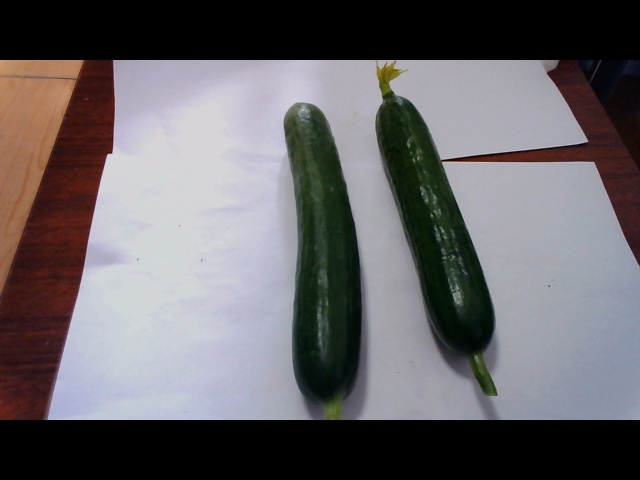cucumber: (370, 97, 510, 393), (260, 87, 372, 422)
